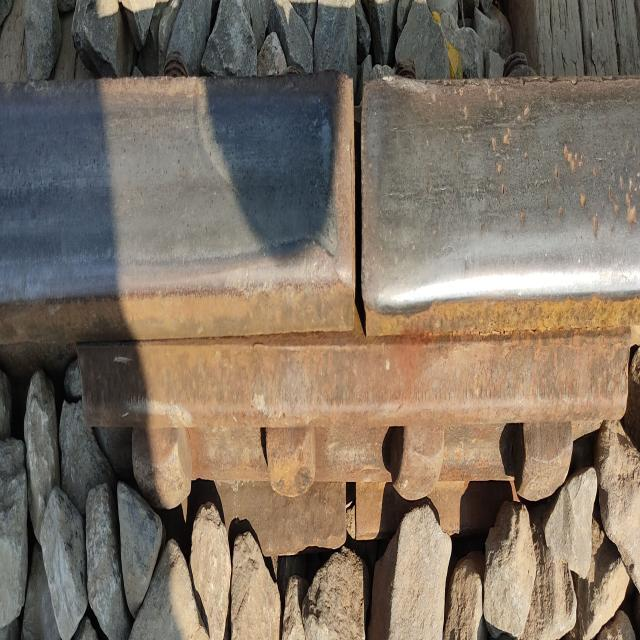Good Joint: (78, 330, 630, 509)
